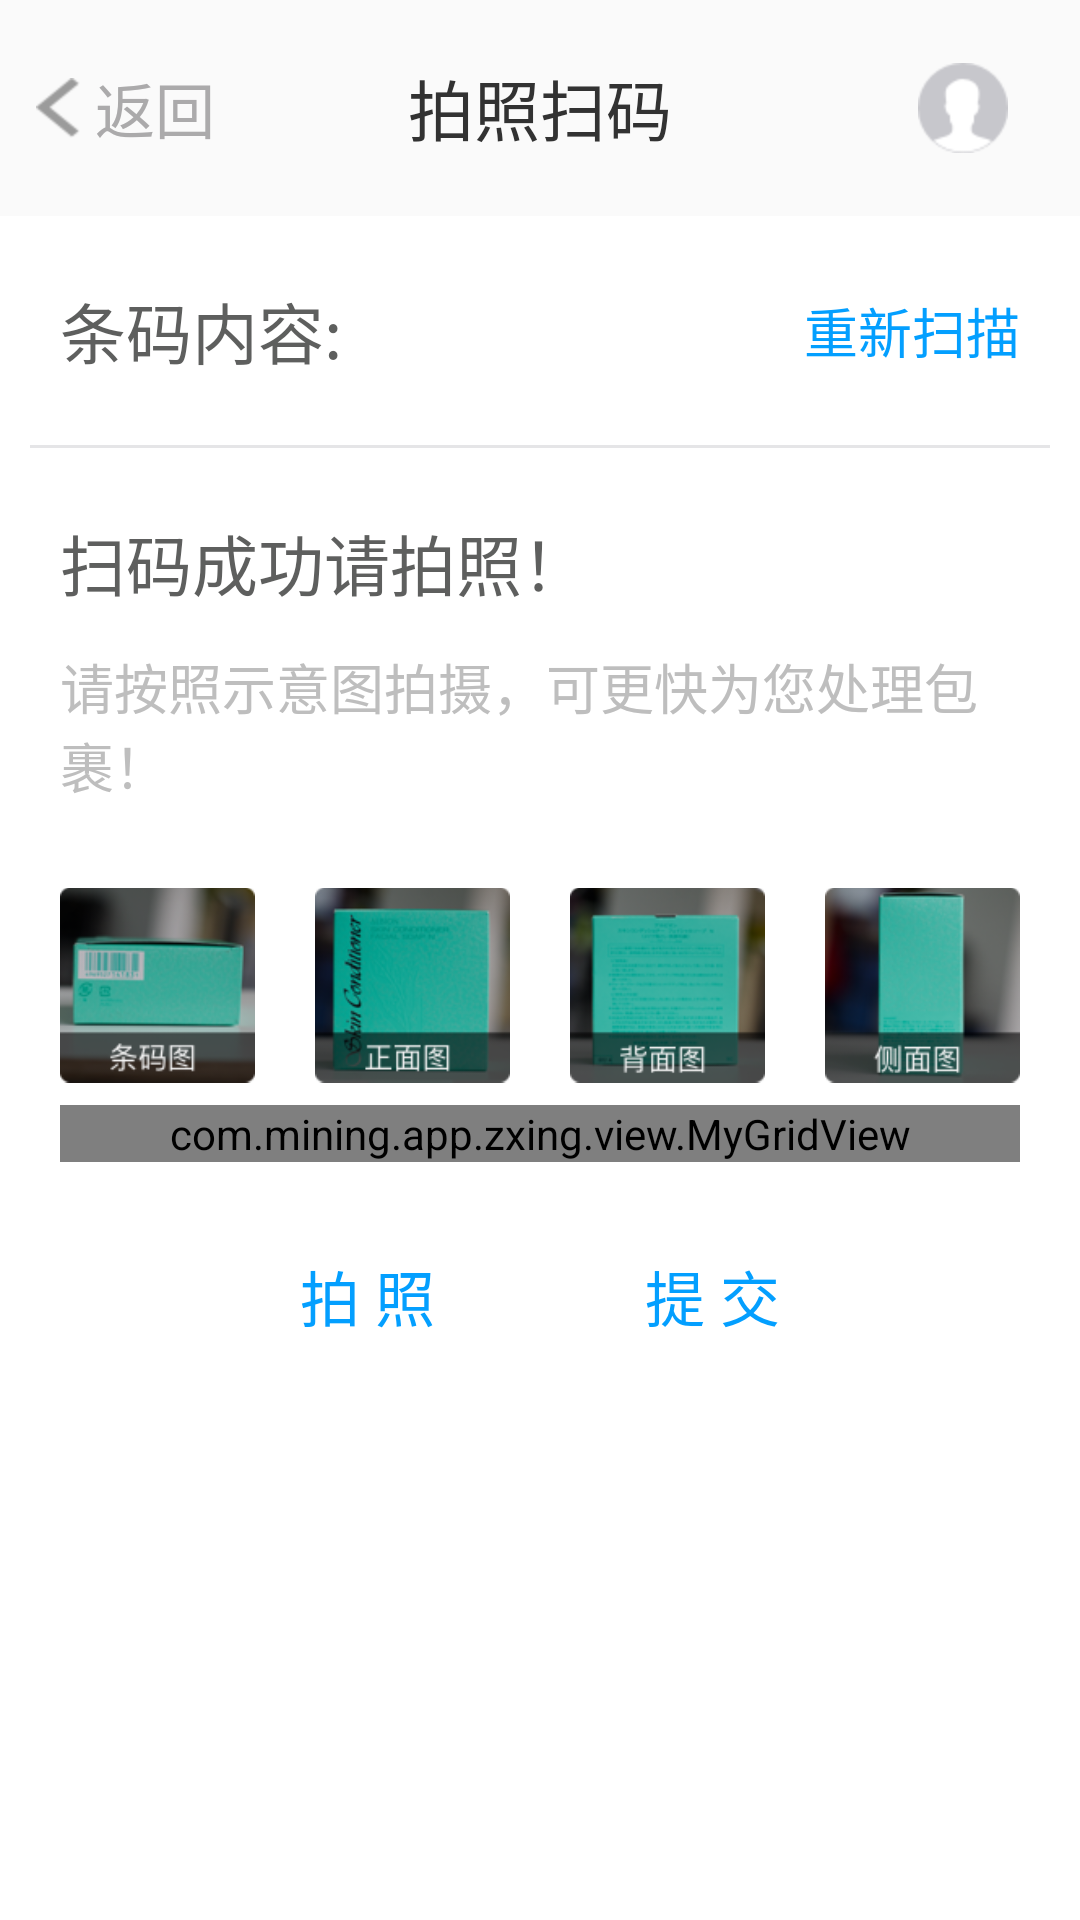

Icon bounding boxes for this 1080 × 1920 phone screenshot, format [x1, y1, x2, y2]:
userphoto: [918, 63, 1008, 153]
